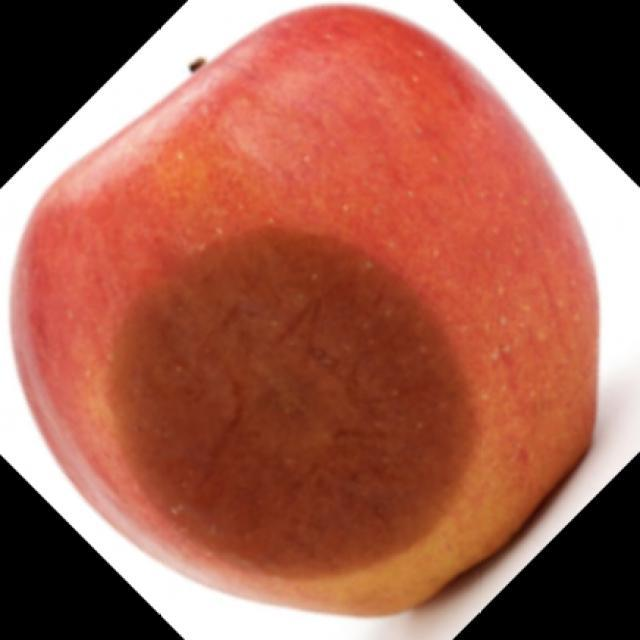Rotten: (42, 12, 620, 595)
